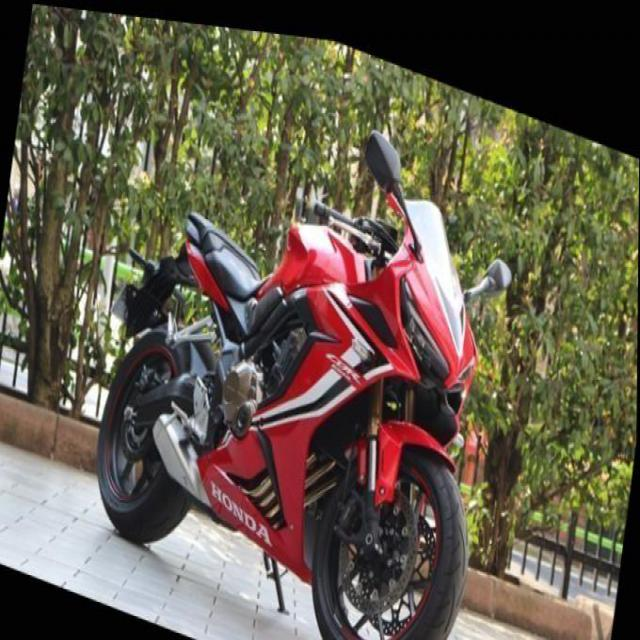CBR650R: (81, 32, 526, 638)
